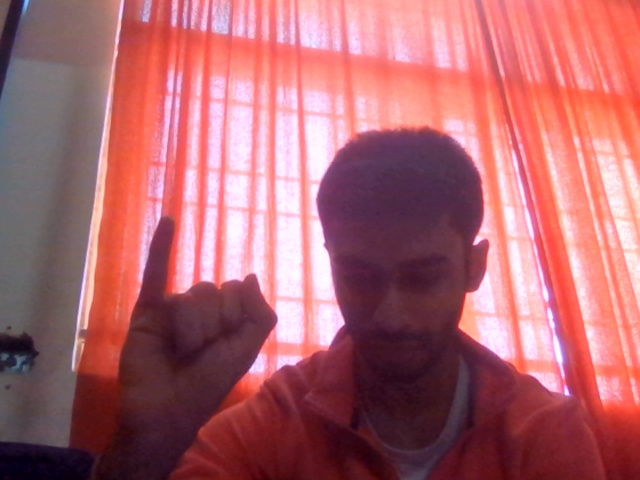I: (88, 174, 312, 480)
